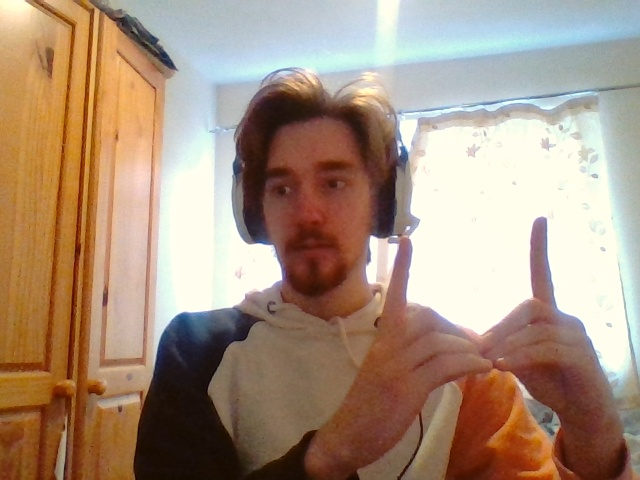meet: (383, 217, 562, 372)
